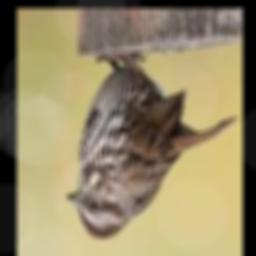Sparrow: (67, 51, 237, 239)
